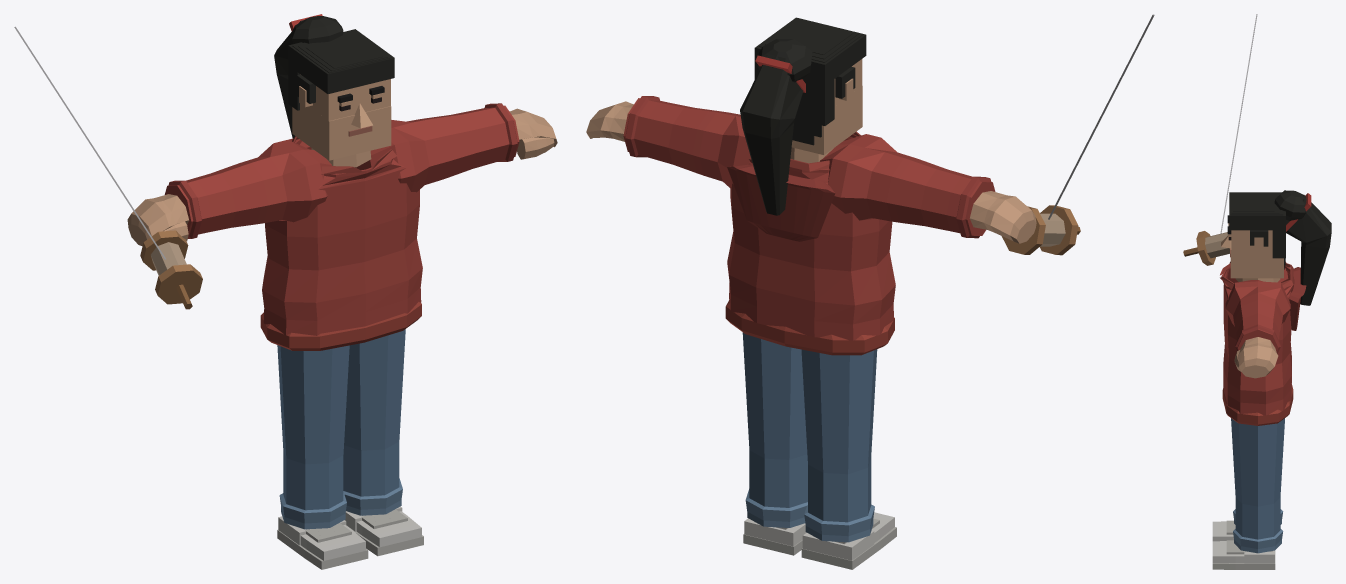
File: kite-kid-0a7d70.glb
3 renders of one model, left to right at view 1: azimuth 30°, elevation 25°; view 2: azimuth 150°, elevation 25°; view 3: azimuth 270°, elevation 25°, orthographic. The views are drawn at different scales.
Parts seen in each view (by area): view 1: kite-kid-0a7d70; view 2: kite-kid-0a7d70; view 3: kite-kid-0a7d70.
Boxes of the visible parts, x1,y1,x2,y2 form: kite-kid-0a7d70: [14, 14, 557, 569]; kite-kid-0a7d70: [586, 14, 1154, 569]; kite-kid-0a7d70: [1183, 14, 1331, 569].
Size of the model in its own units: 1.34 by 1.42 by 0.4498.
